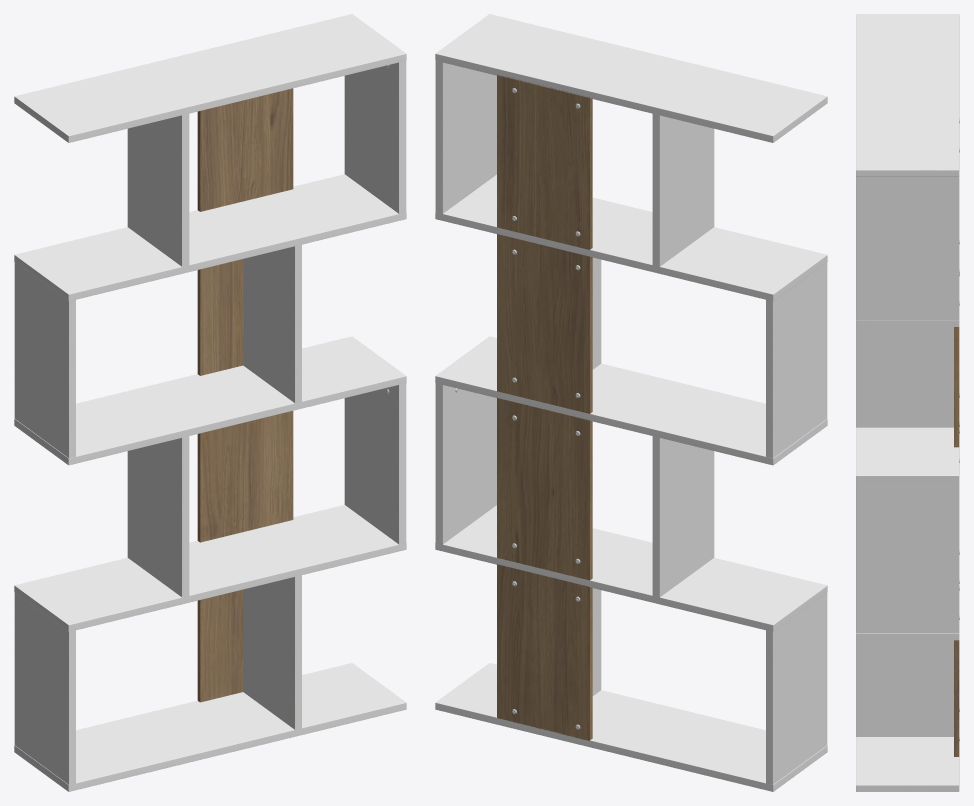
Rendered from abo-B07QY2XJ5J.glb.
The picture shows the model from 3 angles, left to right: view 1: azimuth 30°, elevation 25°; view 2: azimuth 150°, elevation 25°; view 3: azimuth 270°, elevation 25°; orthographic projection. The views are drawn at different scales.
Size of the model in its own units: 0.89 by 1.65 by 0.25.
Materials: 1 (1 with a texture image).
